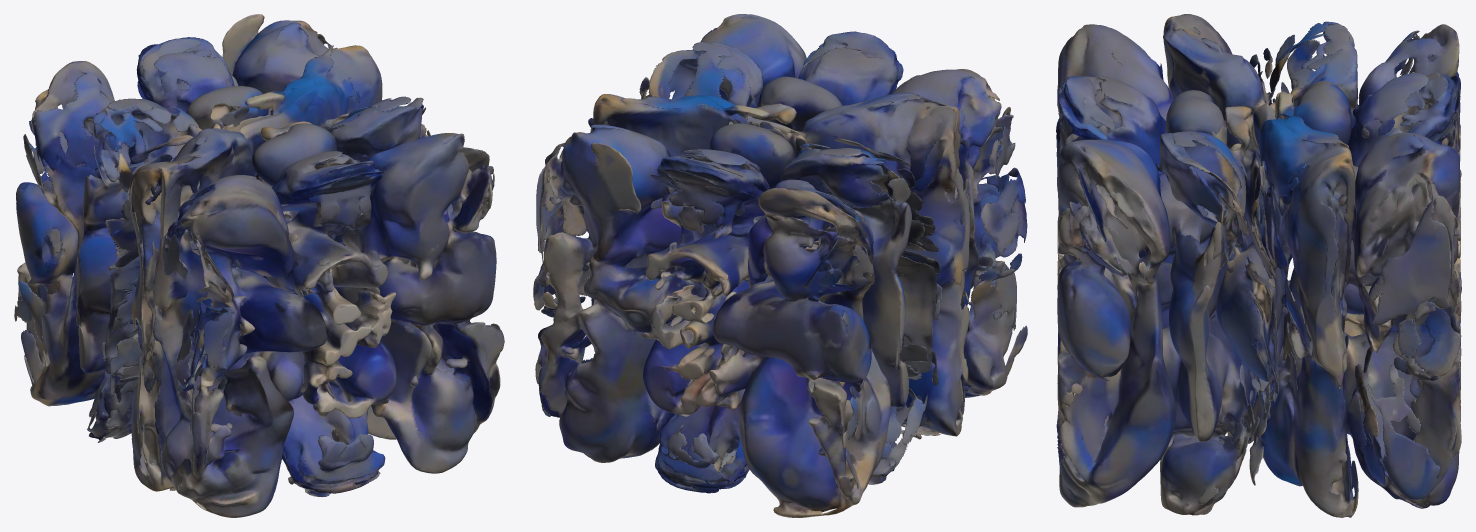
File: mussel_bed_a.glb
3 views of the same model, side by side, from view 1: azimuth 30°, elevation 25°; view 2: azimuth 150°, elevation 25°; view 3: azimuth 270°, elevation 25° (orthographic). The views are drawn at different scales.
Visible parts, largest first — view 1: tripo_node_dac2783e-6c3d-408a-808b-f70fa47d2aaa; view 2: tripo_node_dac2783e-6c3d-408a-808b-f70fa47d2aaa; view 3: tripo_node_dac2783e-6c3d-408a-808b-f70fa47d2aaa.
Part boxes in pixels (bbox=[...]): tripo_node_dac2783e-6c3d-408a-808b-f70fa47d2aaa: bbox=[14, 14, 504, 517]; tripo_node_dac2783e-6c3d-408a-808b-f70fa47d2aaa: bbox=[533, 14, 1027, 517]; tripo_node_dac2783e-6c3d-408a-808b-f70fa47d2aaa: bbox=[1056, 14, 1461, 517].
Bounding box in the file's own units: 0.9912 × 0.9966 × 1.
Materials: 1 (1 with a texture image).
